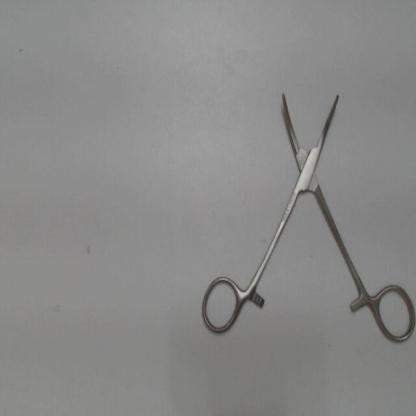Crile Artery Forceps: (194, 82, 415, 348)
